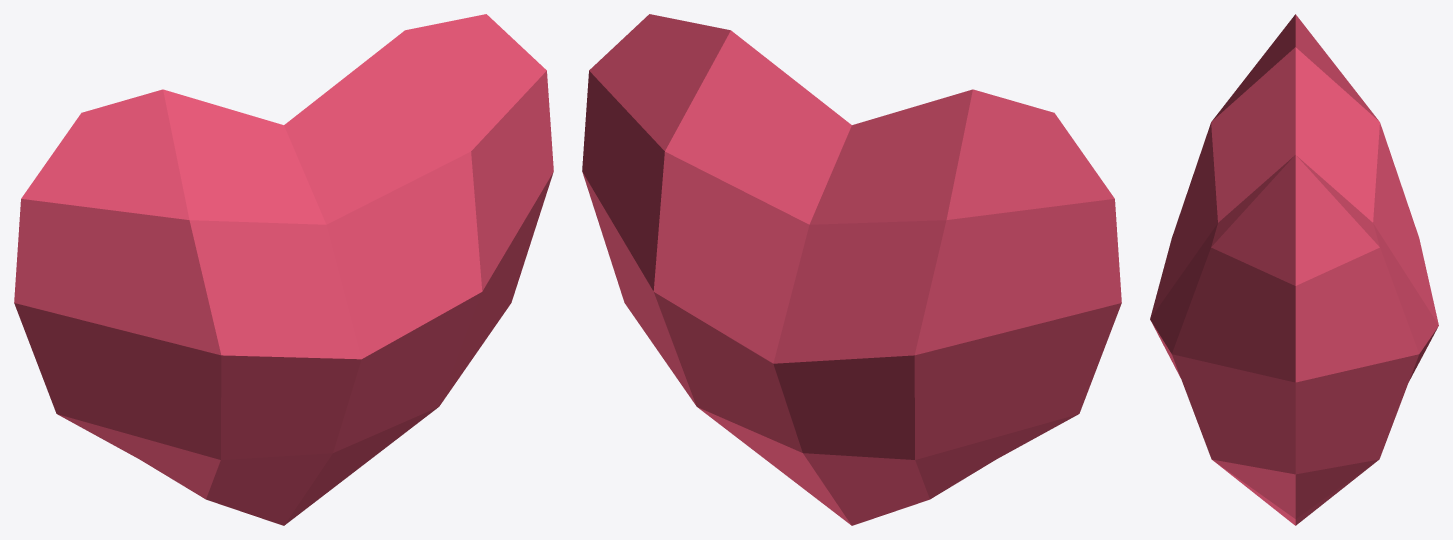
The model's file is Heart.glb.
3 views of the same model, side by side, from view 1: azimuth 30°, elevation 25°; view 2: azimuth 150°, elevation 25°; view 3: azimuth 270°, elevation 25° (orthographic). The views are drawn at different scales.
Visible parts, largest first — view 1: Plane; view 2: Plane; view 3: Plane.
Part boxes in pixels (left/top/right/bottom): Plane: left=14, top=14, right=553, bottom=525; Plane: left=582, top=14, right=1121, bottom=525; Plane: left=1150, top=14, right=1438, bottom=525.
Bounding box in the file's own units: 2.8 × 2.31 × 1.42.
